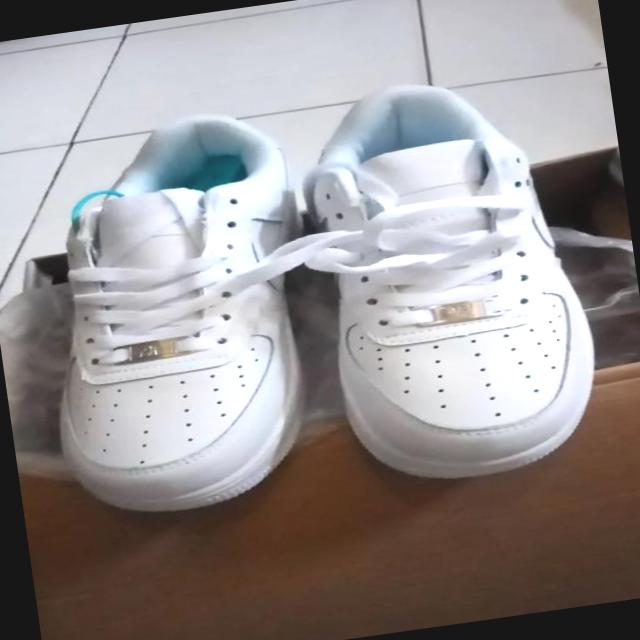nike_fake_airforce: (284, 62, 622, 496), (15, 96, 348, 530)
